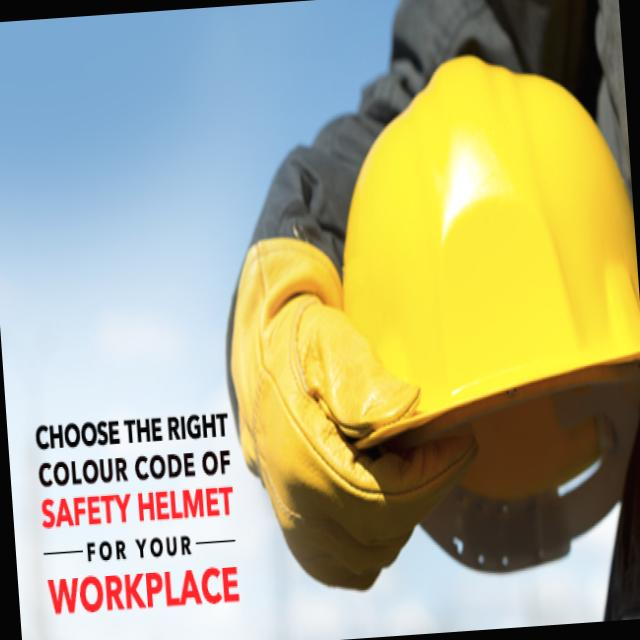helmet: (318, 35, 640, 591)
